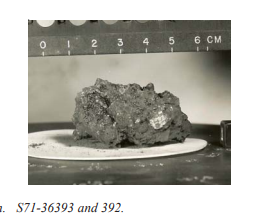Breccia: (72, 73, 199, 156)
